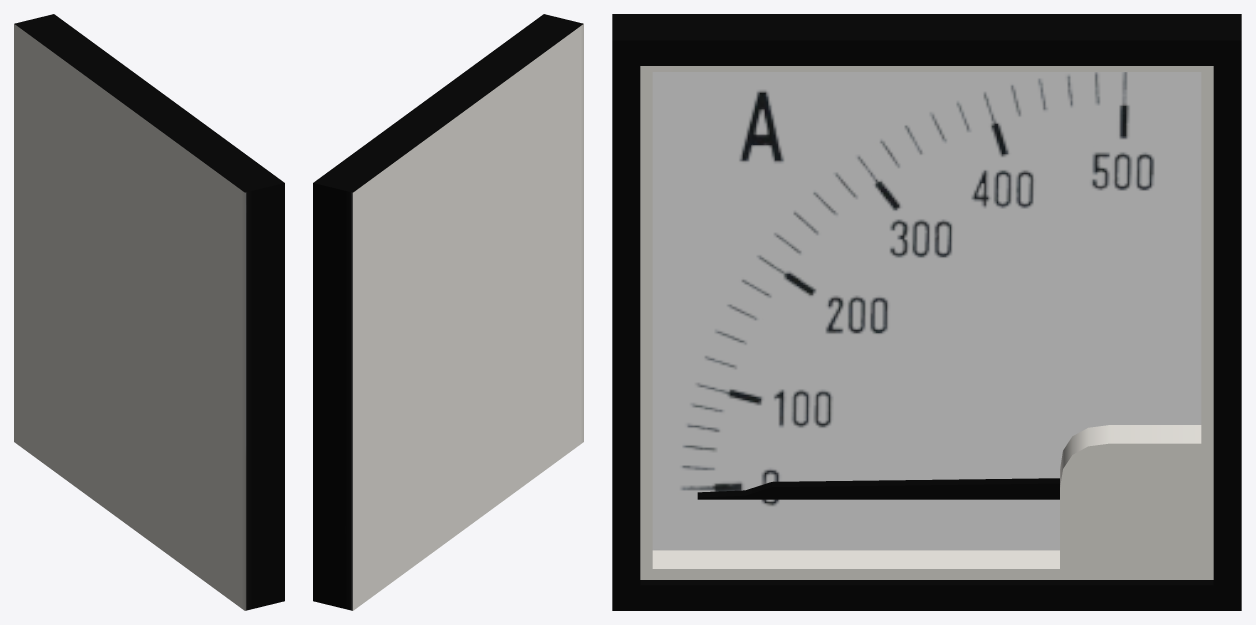
Rendered from gauge_amp.fbx.
3 views of the same model, side by side, from view 1: azimuth 30°, elevation 25°; view 2: azimuth 150°, elevation 25°; view 3: azimuth 270°, elevation 25° (orthographic). The views are drawn at different scales.
Visible parts, largest first — view 1: gauge_amp; view 2: gauge_amp; view 3: gauge_amp, needle002.
Boxes of the visible parts, box(x1,y1,x2,y2) form: gauge_amp: box(14, 14, 284, 610); gauge_amp: box(313, 14, 583, 610); gauge_amp: box(612, 14, 1241, 610); needle002: box(697, 478, 1059, 499).
Bounding box in the file's own units: 0.8243 × 8.24 × 8.24.
Materials: 1 (1 with a texture image).
